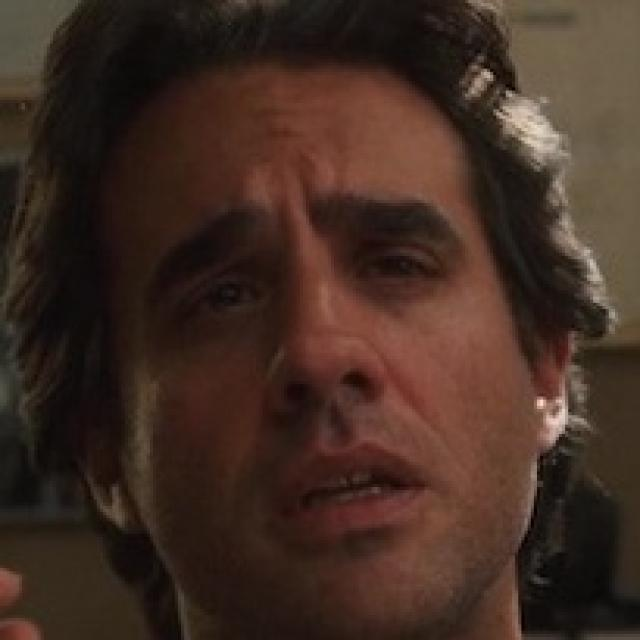Depress: (110, 61, 544, 637)
